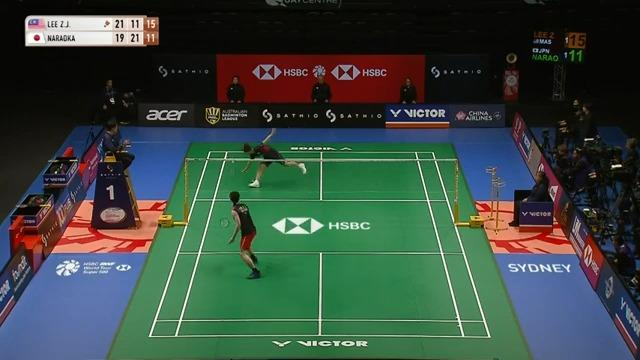Shuttlecock: (228, 155, 236, 165)
